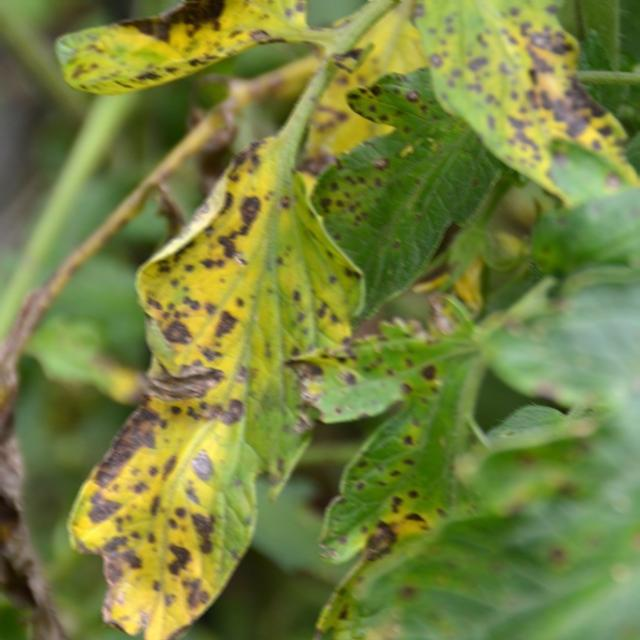Tomato Septoria leaf spot: (34, 119, 359, 640), (308, 294, 517, 640), (425, 0, 640, 203), (52, 0, 324, 97)
